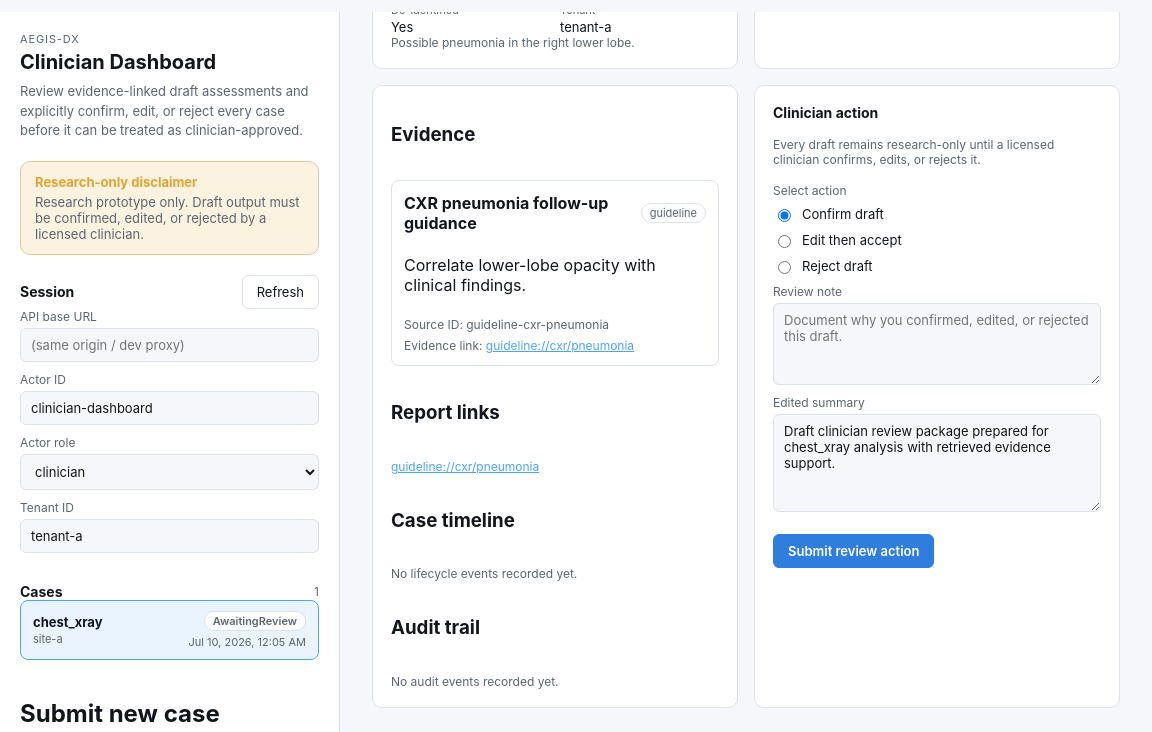
Test: App › requires an edited summary before allowing an edit action to submit
(page scrolled)
Clear the text box with placeholder "Required when choosing edit." at (937, 463), box [773,414,1101,512]
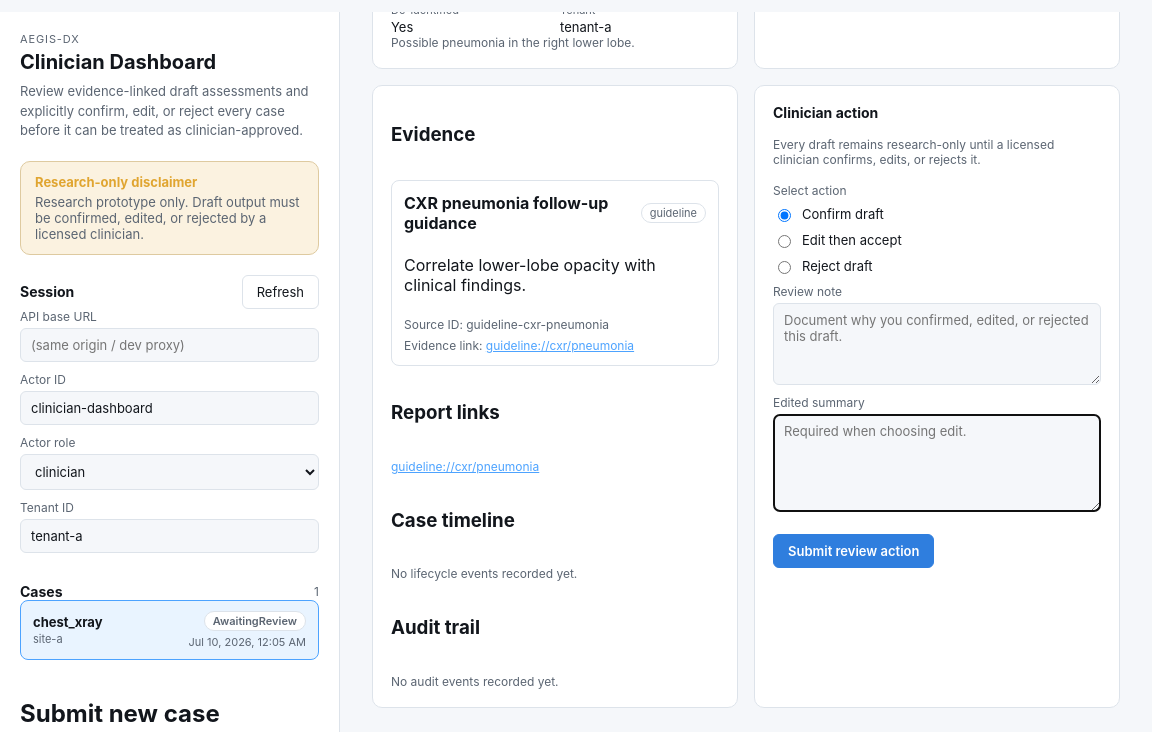
Click the radio button labelled "Edit then accept" at (784, 242), box [778,235,791,248]
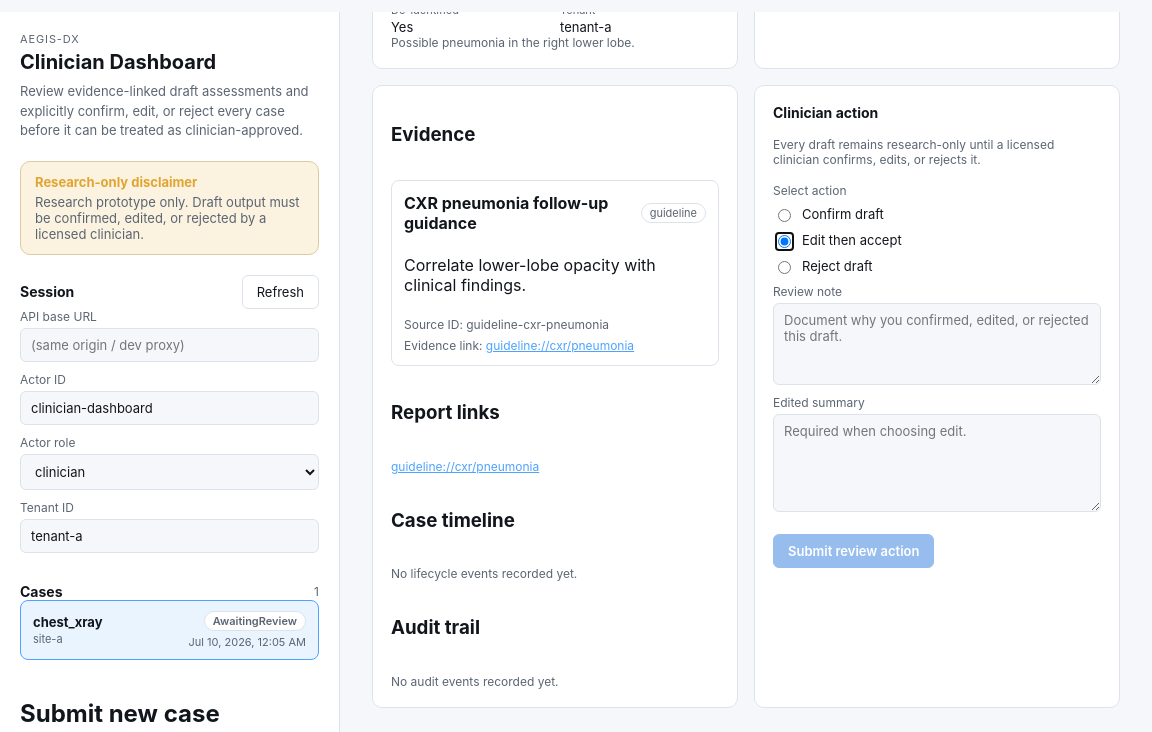
Now the button "Submit review action" is disabled, box [773,534,934,568]
